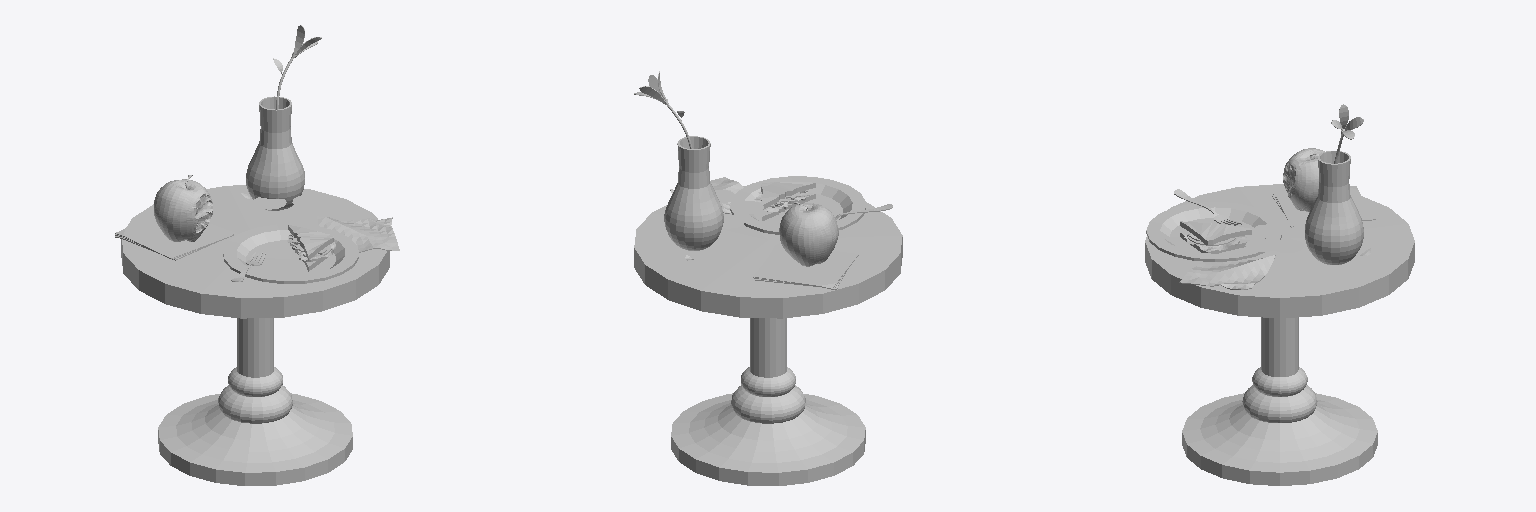
File: lunch.obj
3 views of the same model, side by side, from view 1: azimuth 30°, elevation 25°; view 2: azimuth 150°, elevation 25°; view 3: azimuth 270°, elevation 25° (orthographic).
Parts seen in each view (by area): view 1: default; view 2: default; view 3: default.
Boxes of the visible parts, <box> form: default: <box>115,25,399,485</box>; default: <box>634,71,902,485</box>; default: <box>1145,104,1414,485</box>.
Size of the model in its own units: 2.83 by 4.35 by 2.82.